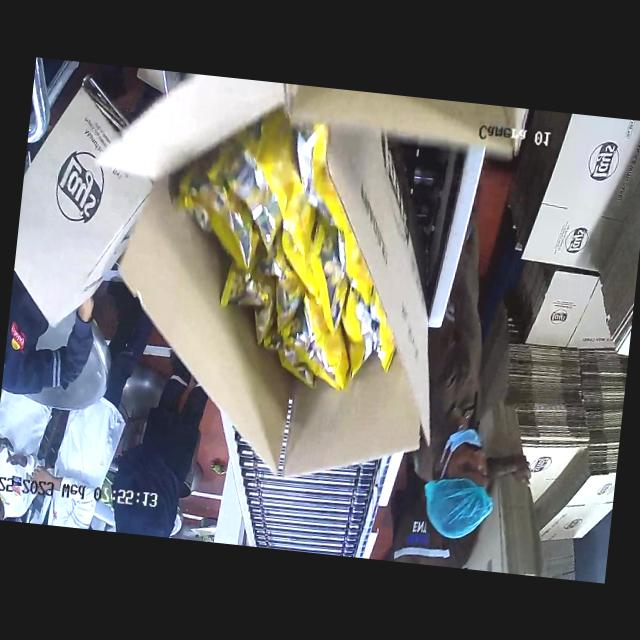salted: (152, 96, 422, 400)
